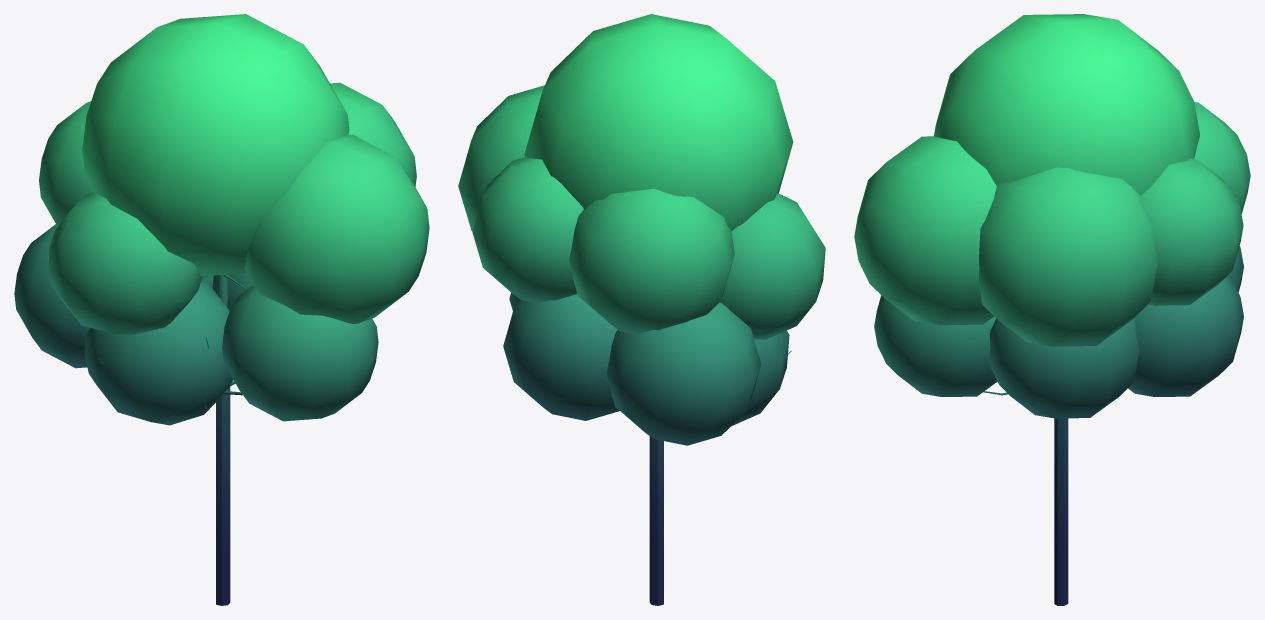
The model's file is SM_Tree_1.fbx.
3 renders of one model, left to right at view 1: azimuth 30°, elevation 25°; view 2: azimuth 150°, elevation 25°; view 3: azimuth 270°, elevation 25°, orthographic.
Parts seen in each view (by area): view 1: Sphere012; view 2: Sphere012; view 3: Sphere012.
Part boxes in pixels (x1=…): Sphere012: x1=14, y1=14, x2=429, y2=605; Sphere012: x1=458, y1=14, x2=825, y2=605; Sphere012: x1=854, y1=14, x2=1250, y2=605.
Bounding box in the file's own units: 453 × 727 × 450.
